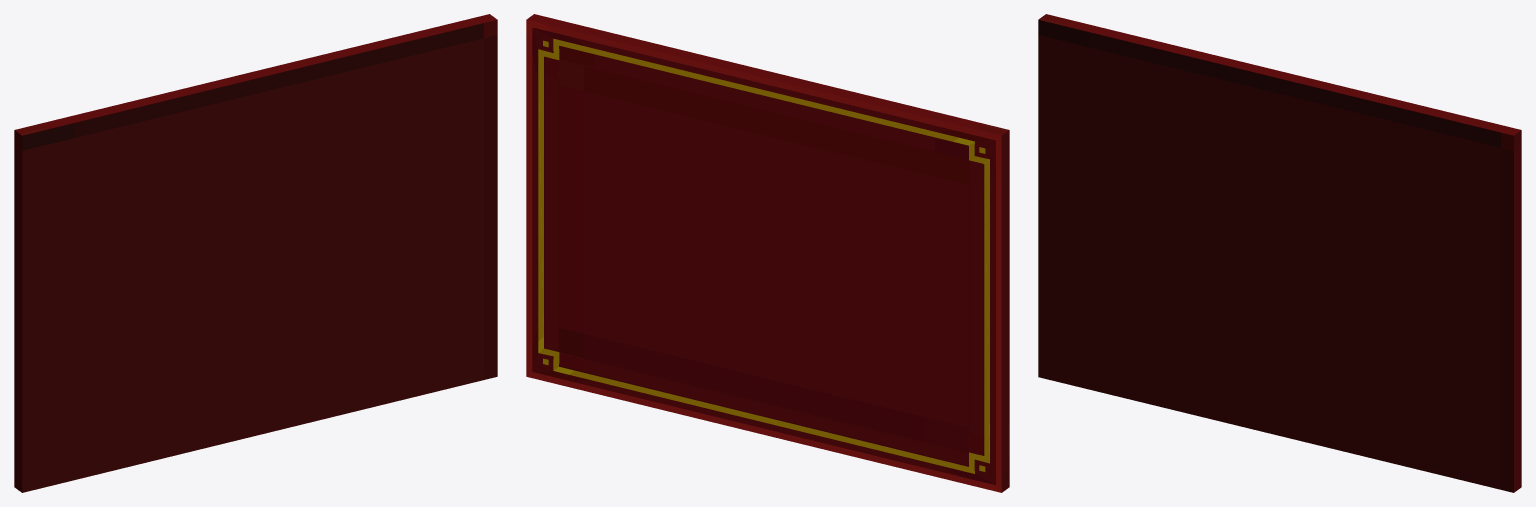
The model's file is DiningCarpet.fbx.
3 views of the same model, side by side, from view 1: azimuth 30°, elevation 25°; view 2: azimuth 150°, elevation 25°; view 3: azimuth 330°, elevation 25° (orthographic).
Visible parts, largest first — view 1: DiningCarpet; view 2: DiningCarpet; view 3: DiningCarpet.
Part boxes in pixels (x1,y1,x2,y2): DiningCarpet: [14, 14, 497, 492]; DiningCarpet: [526, 14, 1009, 492]; DiningCarpet: [1038, 14, 1521, 492].
Bounding box in the file's own units: 299 × 215 × 8.47.
